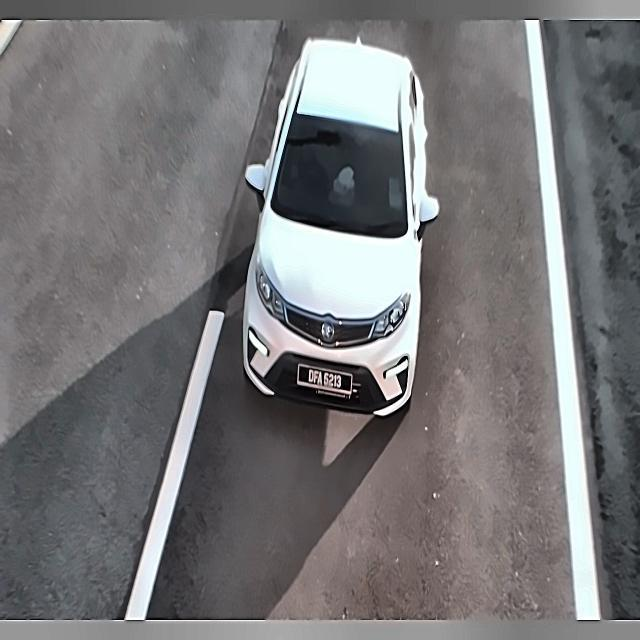car: (292, 356, 357, 399)
